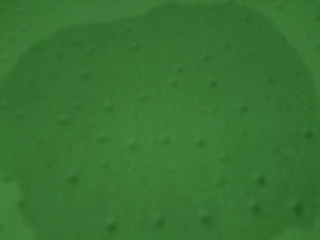Water_detected: (55, 48, 268, 240)
